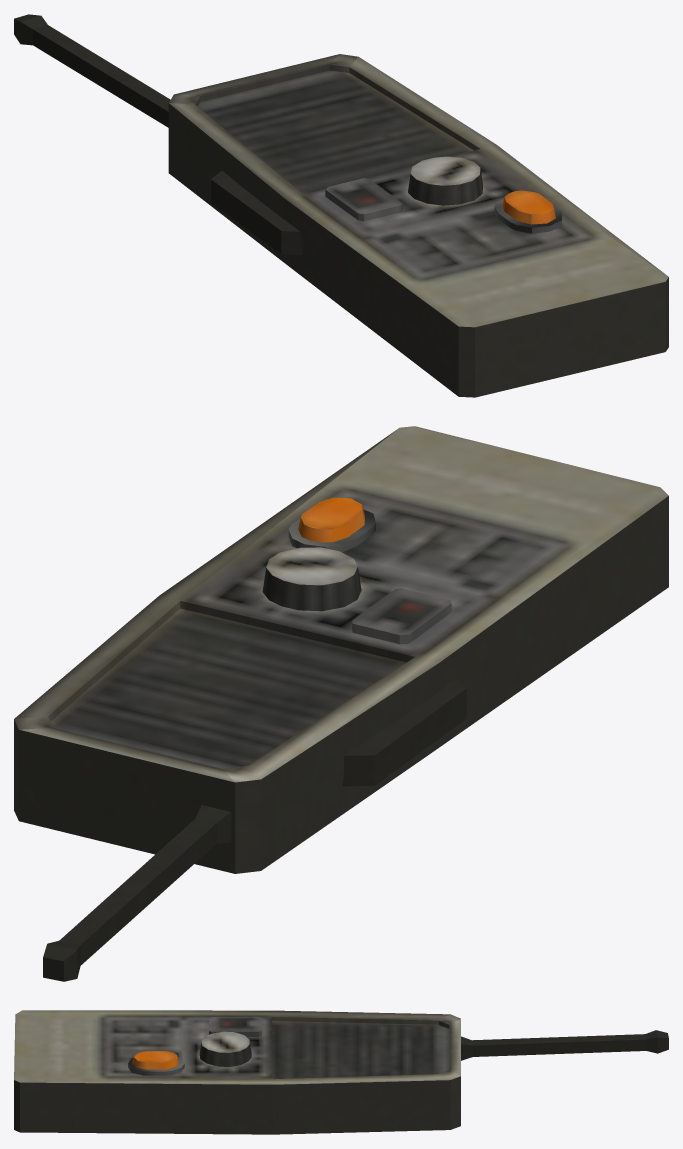
The model's file is walkie_talkie_1.obj.
3 renders of one model, top to bottom at view 1: azimuth 30°, elevation 25°; view 2: azimuth 150°, elevation 25°; view 3: azimuth 270°, elevation 25°, orthographic. The views are drawn at different scales.
Parts seen in each view (by area): view 1: walkie_talkie_1; view 2: walkie_talkie_1; view 3: walkie_talkie_1.
Part boxes in pixels (bbox=[...]): walkie_talkie_1: bbox=[14, 14, 668, 397]; walkie_talkie_1: bbox=[14, 426, 668, 981]; walkie_talkie_1: bbox=[14, 1010, 668, 1134].
Size of the model in its own units: 0.1009 by 0.038 by 0.3569.
